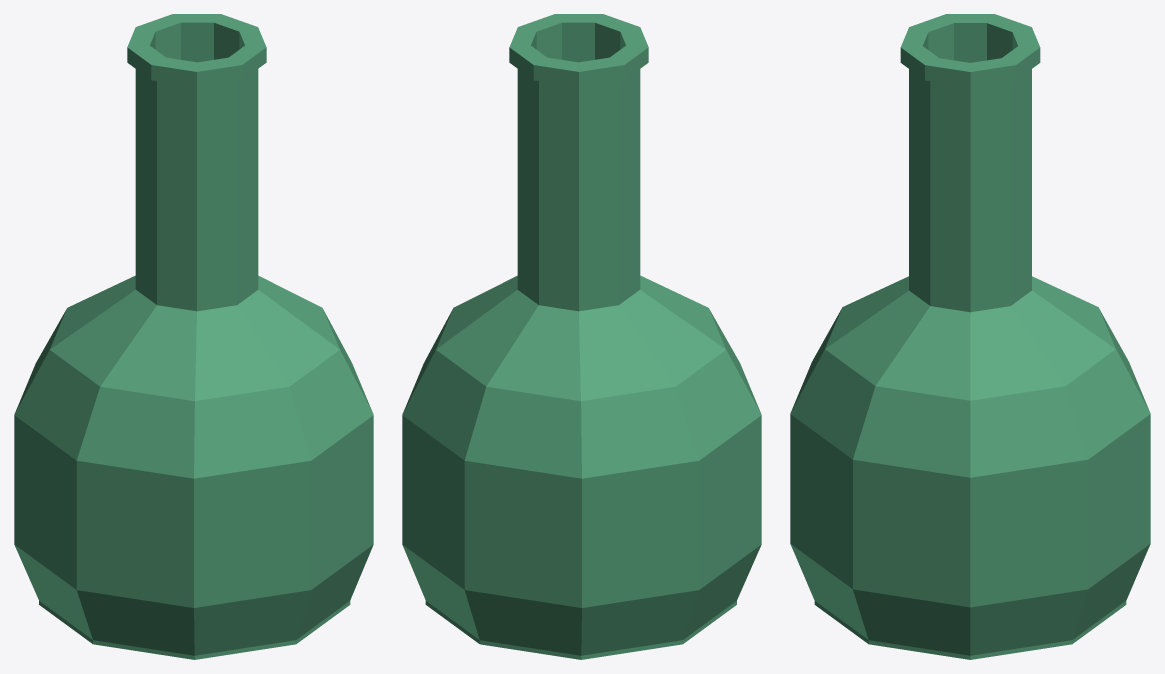
File: fiole_2.fbx
3 renders of one model, left to right at view 1: azimuth 30°, elevation 25°; view 2: azimuth 150°, elevation 25°; view 3: azimuth 270°, elevation 25°, orthographic.
Parts seen in each view (by area): view 1: pCylinder1; view 2: pCylinder1; view 3: pCylinder1.
Part boxes in pixels (x1,y1,x2,y2): pCylinder1: (14,14,373,659); pCylinder1: (402,14,761,659); pCylinder1: (790,14,1150,659).
Bounding box in the file's own units: 2.24 × 3.85 × 2.28.
